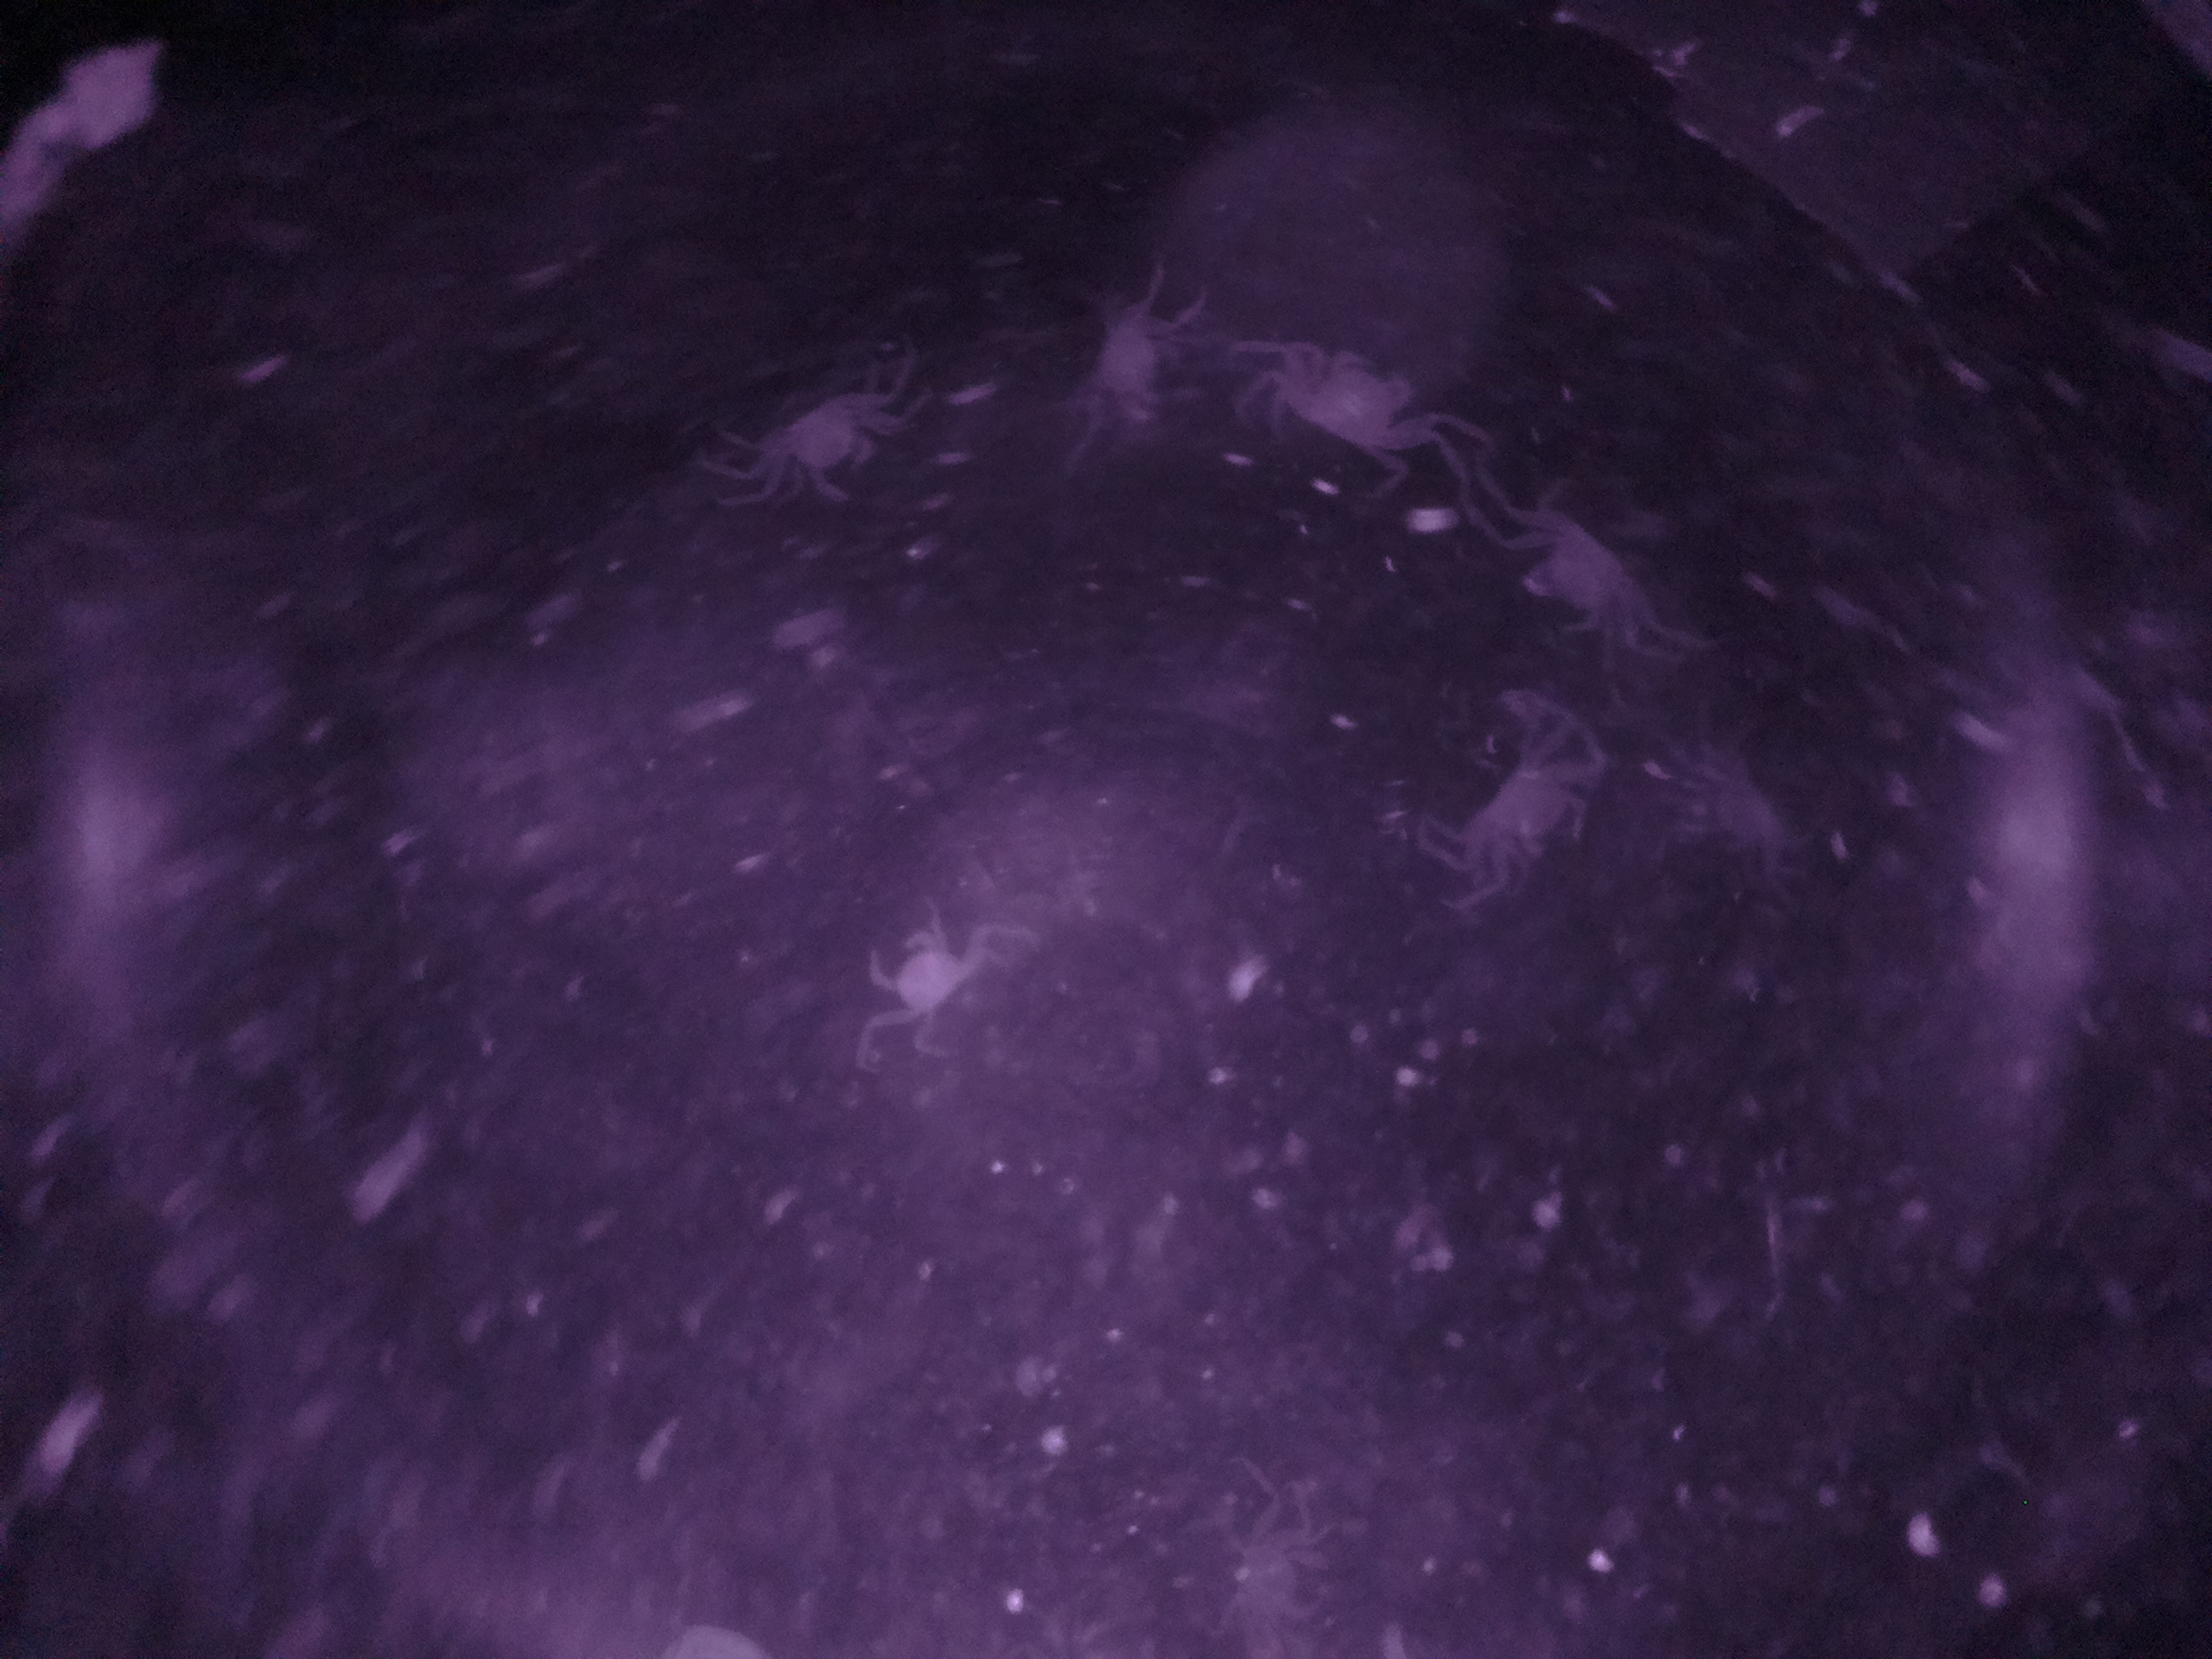Crab: (1501, 509, 1658, 650), (751, 376, 887, 532), (1278, 338, 1437, 471)
